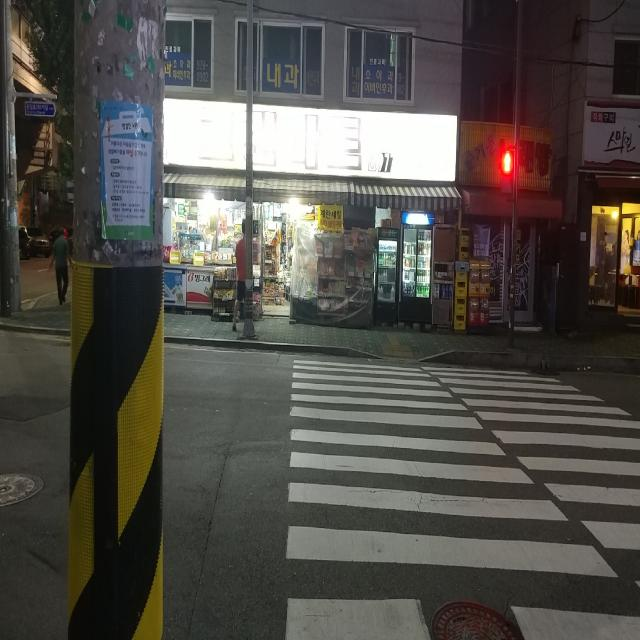빨간불: (502, 148, 513, 192)
횡단보도: (284, 358, 640, 640)
